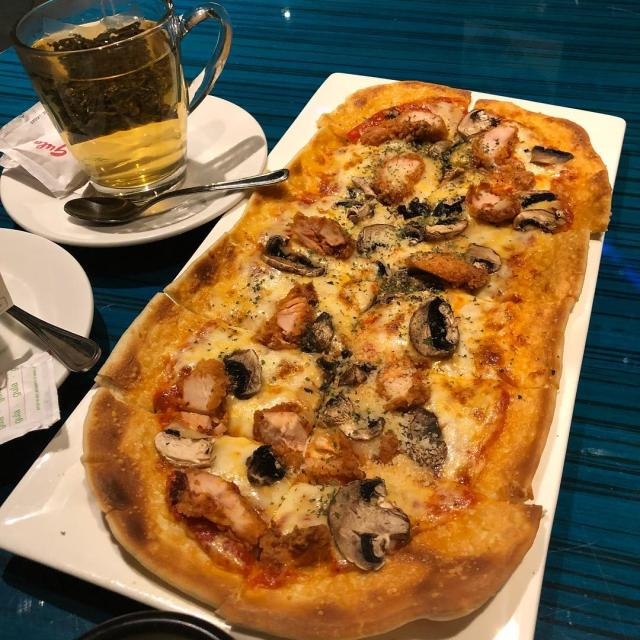mushrooms: (328, 474, 415, 572), (409, 294, 469, 362), (155, 415, 210, 473), (260, 232, 326, 278), (328, 391, 376, 441), (518, 192, 570, 231), (228, 343, 265, 395), (248, 441, 288, 487), (420, 199, 460, 244), (356, 219, 404, 256), (466, 240, 512, 278), (458, 106, 500, 144), (302, 311, 339, 353), (528, 138, 570, 170)
pizza: (78, 81, 613, 640)
